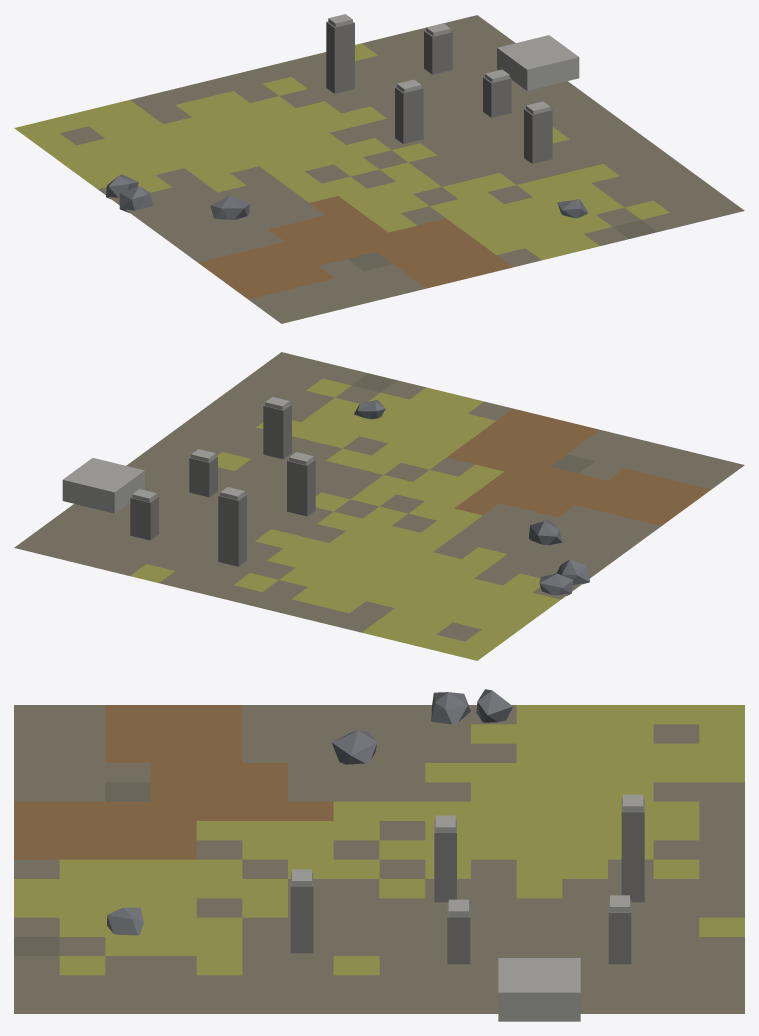
Rendered from chunk_9_17.glb.
The picture shows the model from 3 angles, top to bottom: view 1: azimuth 30°, elevation 25°; view 2: azimuth 150°, elevation 25°; view 3: azimuth 270°, elevation 25°; orthographic projection. The views are drawn at different scales.
Parts seen in each view (by area): view 1: chunk_9_17; view 2: chunk_9_17; view 3: chunk_9_17.
Part boxes in pixels (x1,y1,x2,y2): chunk_9_17: [14, 14, 744, 323]; chunk_9_17: [14, 352, 744, 660]; chunk_9_17: [14, 689, 744, 1021].
Bounding box in the file's own units: 16.53 × 2.63 × 16.
